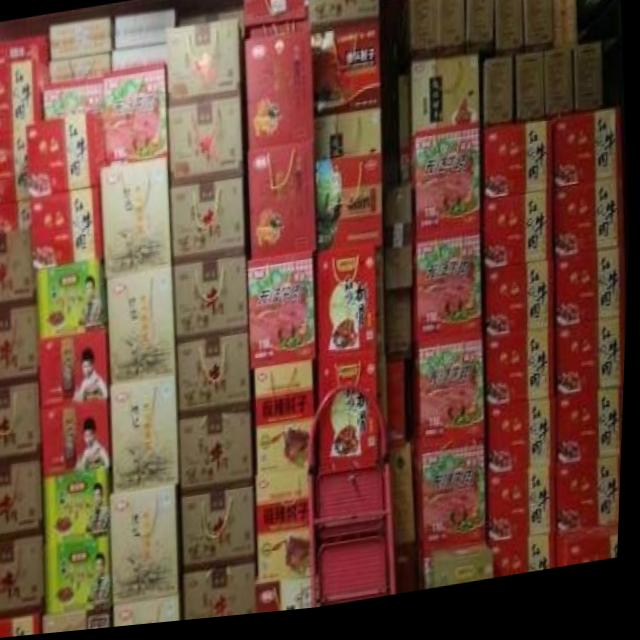box: (234, 26, 315, 159), (114, 484, 184, 608), (242, 147, 318, 260), (102, 160, 173, 280), (111, 377, 183, 495), (248, 254, 318, 374), (109, 268, 180, 386), (415, 349, 487, 463), (412, 135, 483, 250), (416, 244, 484, 363), (320, 353, 381, 482), (418, 454, 490, 563), (28, 109, 108, 198), (310, 24, 381, 124), (168, 100, 244, 192), (174, 257, 252, 346), (103, 63, 170, 166), (319, 251, 380, 362), (185, 483, 260, 572), (171, 182, 247, 269), (316, 162, 384, 258), (167, 22, 241, 110), (182, 411, 258, 495), (32, 184, 104, 272), (180, 335, 252, 421), (36, 256, 110, 339), (487, 334, 558, 416), (412, 63, 481, 147), (552, 119, 624, 198), (48, 533, 116, 616), (556, 328, 628, 406), (555, 258, 627, 334), (553, 191, 624, 268), (42, 331, 112, 409), (45, 399, 114, 477), (484, 201, 555, 276), (491, 408, 561, 484), (493, 474, 561, 552), (486, 271, 556, 345), (484, 129, 553, 204), (260, 421, 318, 509), (559, 466, 625, 542), (259, 501, 320, 583), (559, 400, 627, 472), (187, 563, 262, 624), (47, 469, 114, 536), (0, 52, 51, 135), (0, 458, 47, 545), (256, 365, 318, 429), (0, 536, 47, 617), (0, 380, 45, 463), (0, 300, 42, 388), (314, 117, 383, 165), (427, 552, 498, 596), (491, 544, 561, 586), (0, 231, 37, 306), (558, 537, 623, 577), (41, 80, 105, 120), (242, 0, 306, 36), (0, 135, 32, 205), (260, 583, 321, 619), (573, 53, 604, 121), (307, 0, 380, 28), (118, 600, 186, 630), (544, 58, 574, 125), (494, 0, 525, 63), (47, 608, 117, 635), (408, 0, 438, 63), (485, 67, 513, 134), (517, 62, 545, 129), (467, 0, 495, 63), (523, 0, 553, 58), (390, 363, 408, 455), (551, 0, 578, 61), (386, 298, 411, 362), (49, 53, 112, 78), (50, 20, 112, 45), (114, 11, 176, 36), (113, 45, 168, 73), (439, 0, 466, 57), (400, 84, 414, 188), (51, 38, 112, 61), (387, 248, 414, 299), (0, 35, 50, 62), (2, 610, 46, 638), (0, 200, 32, 232), (114, 32, 167, 50)
